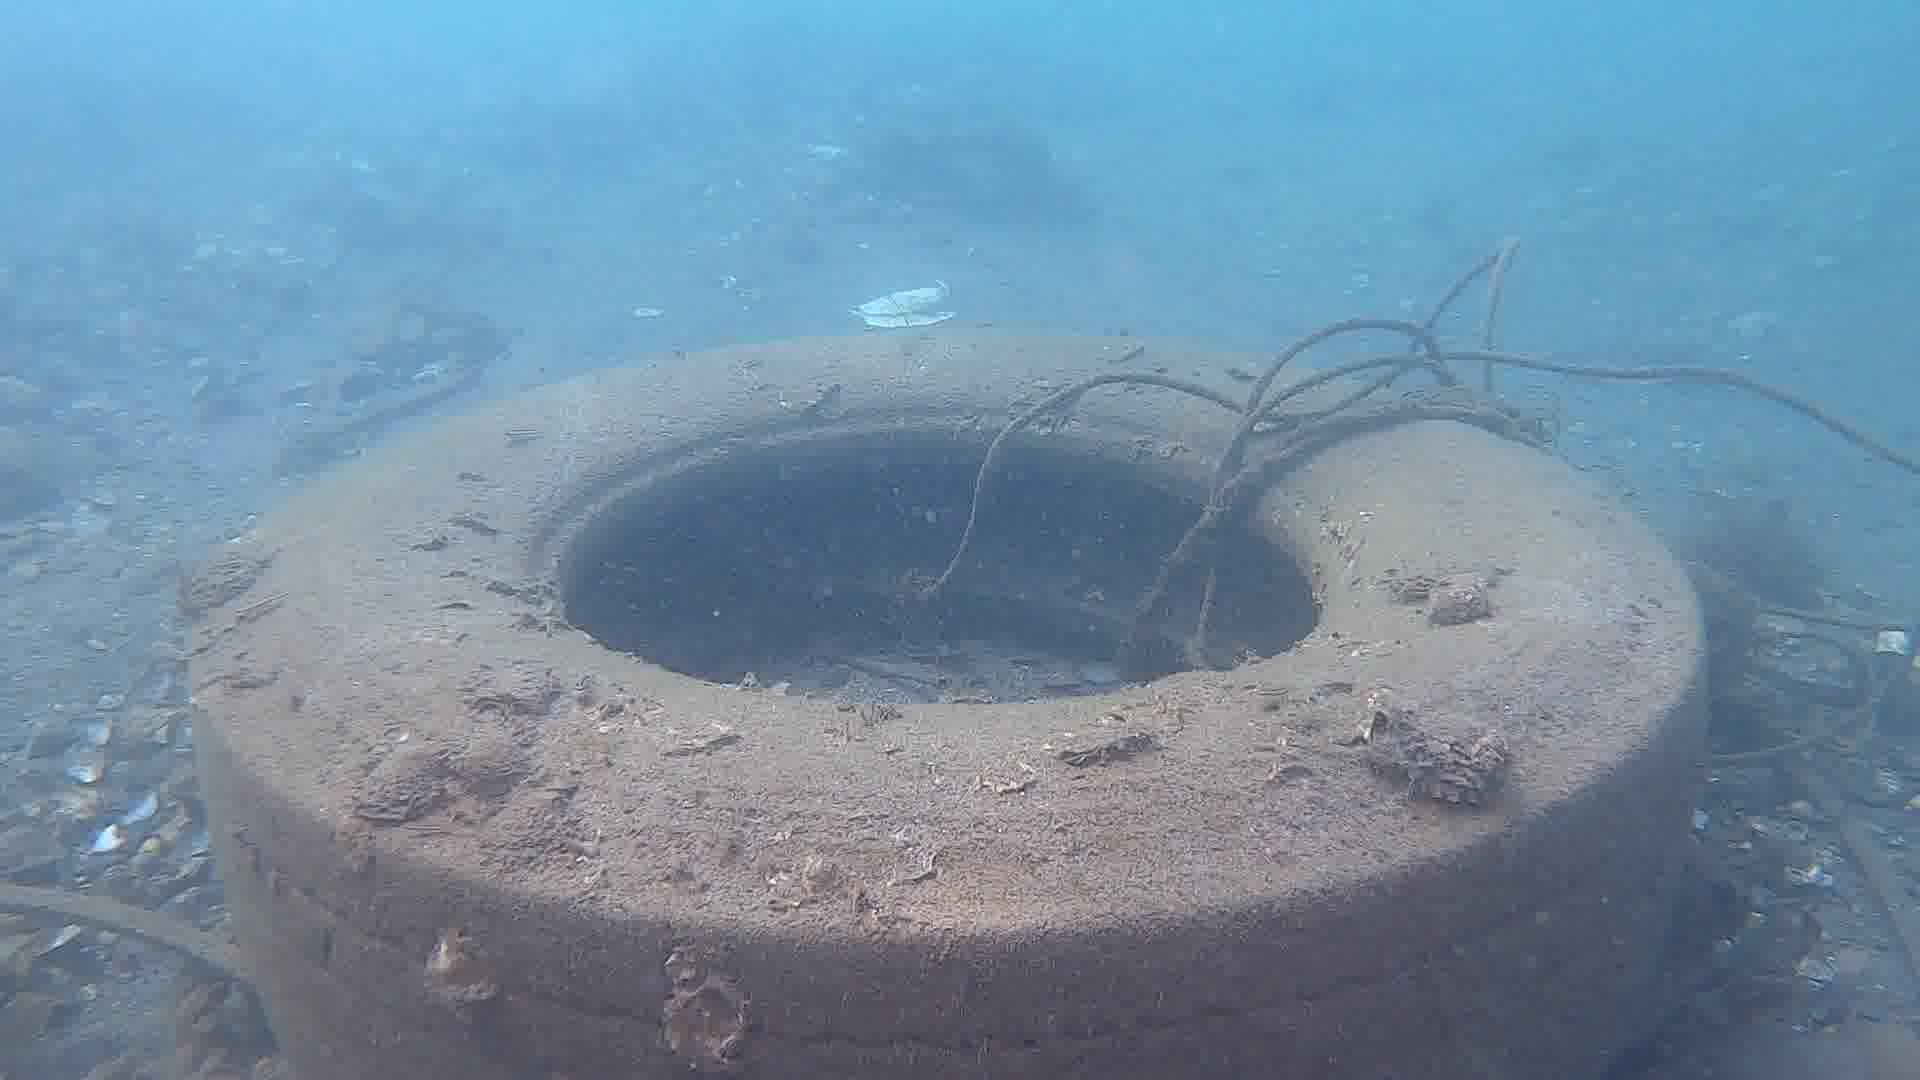bundle of ropes: (928, 237, 1920, 636)
tire: (183, 331, 1710, 1080)
